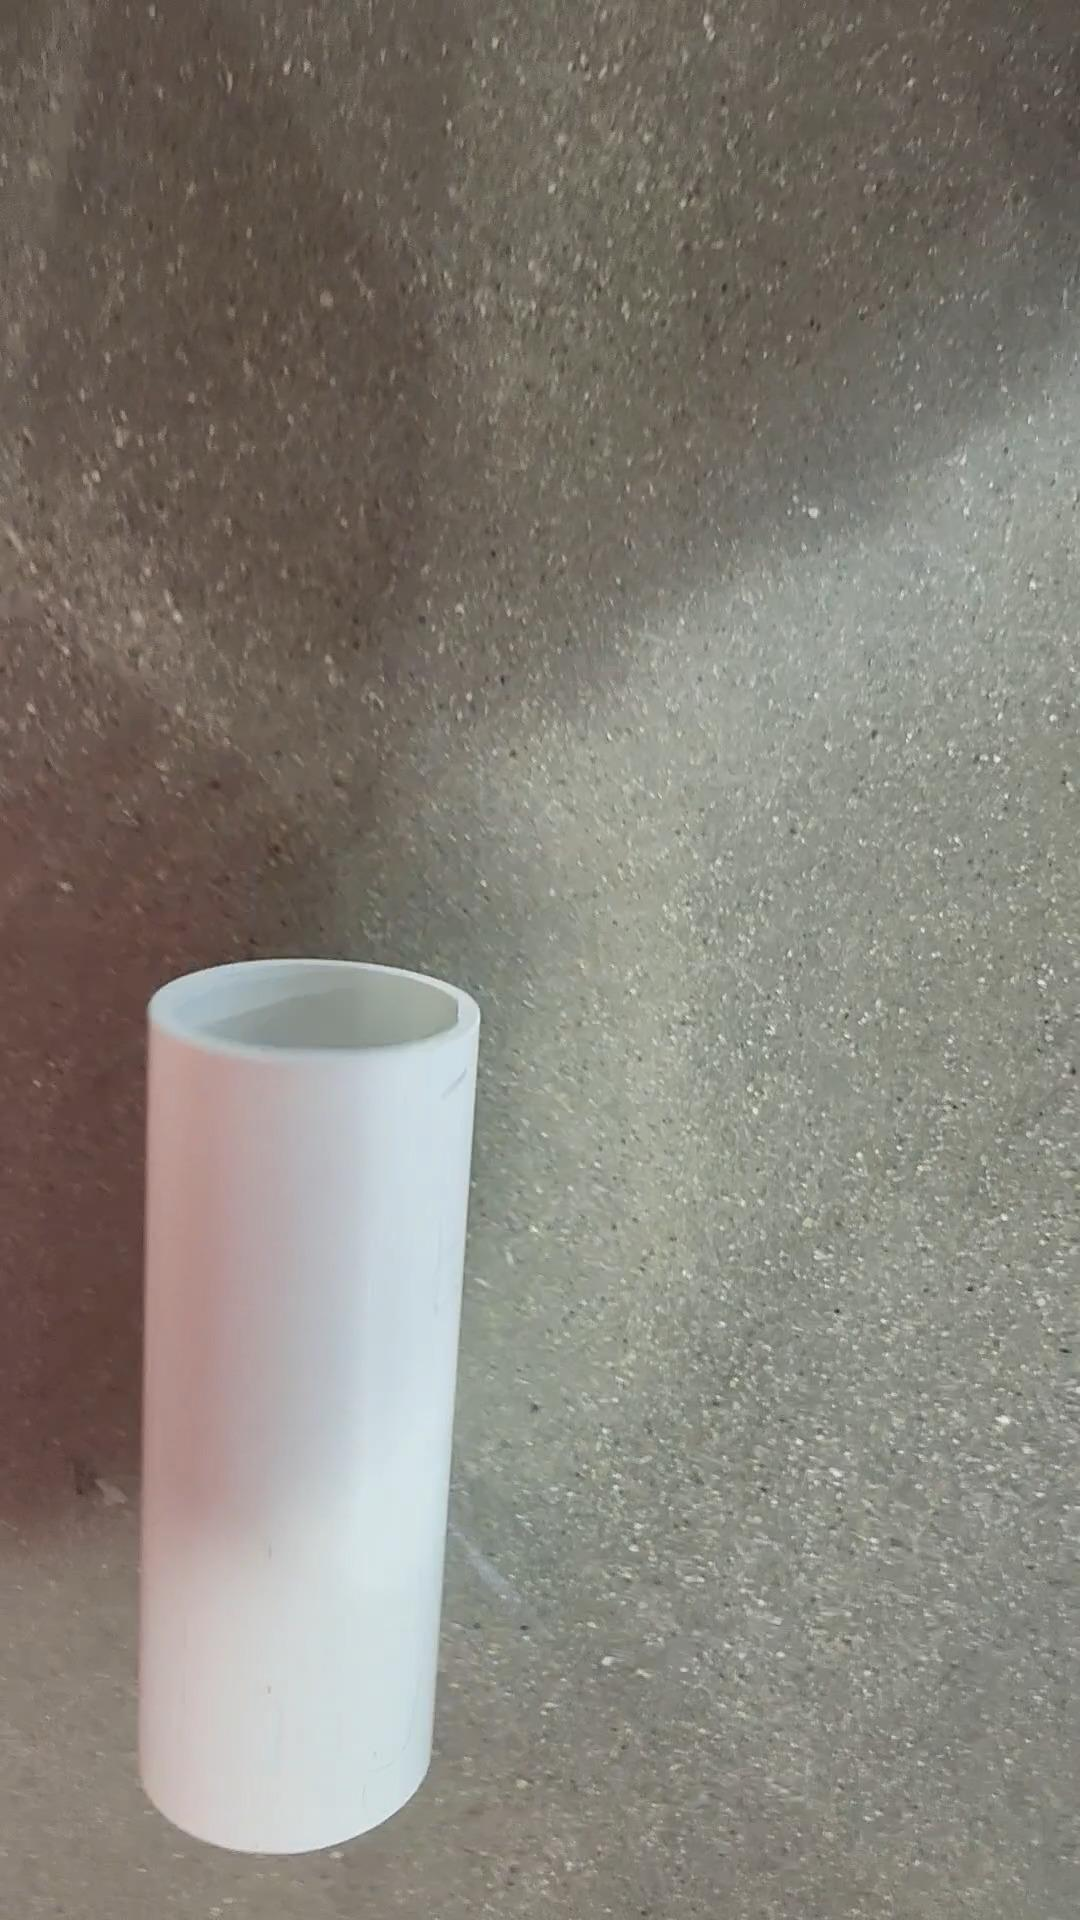coral: (140, 965, 477, 1859)
